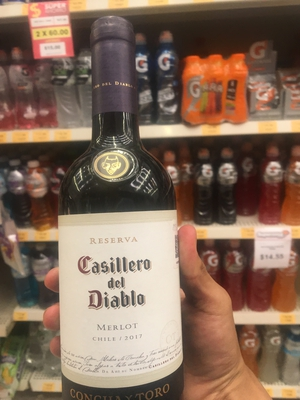casillero del diablo merlot: (54, 28, 186, 397)
